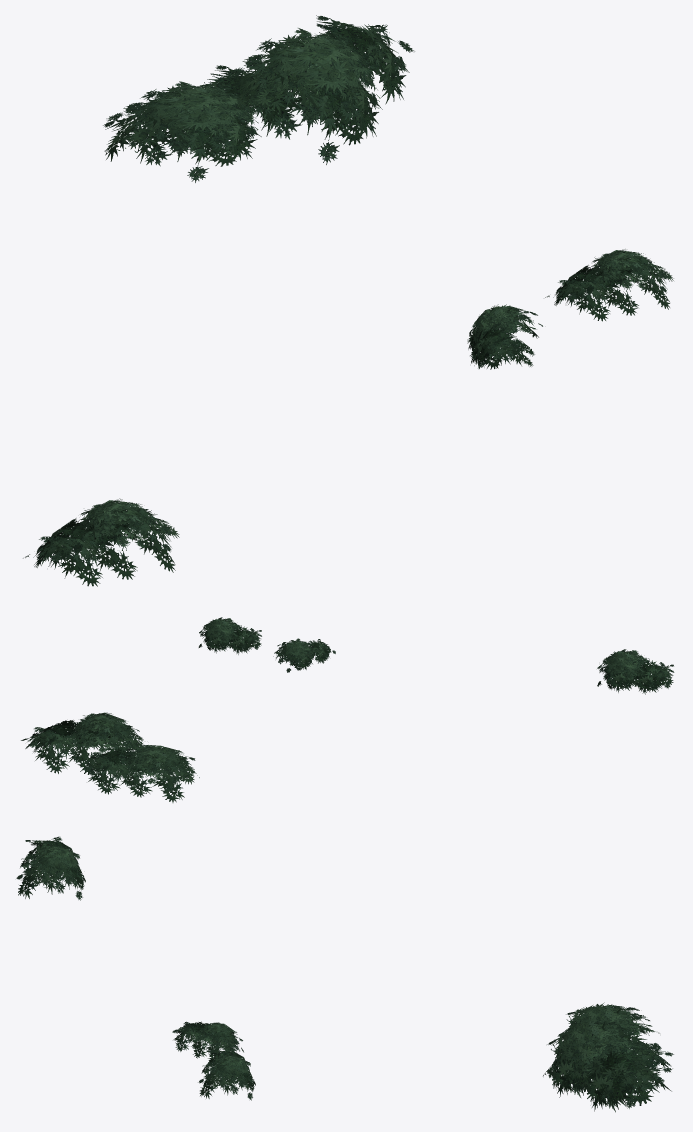
File: zhibei06.fbx
3 views of the same model, one above another, from view 1: azimuth 30°, elevation 25°; view 2: azimuth 150°, elevation 25°; view 3: azimuth 270°, elevation 25° (orthographic). The views are drawn at different scales.
Visible parts, largest first — view 1: zhibei06; view 2: zhibei06; view 3: zhibei06.
Boxes of the visible parts, box(x1,y1,x2,y2) form: zhibei06: box(23, 15, 673, 586); zhibei06: box(21, 617, 674, 802); zhibei06: box(16, 836, 673, 1112).
Size of the model in its own units: 2848 by 376 by 2930.
